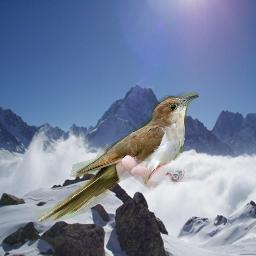Cuckoo: (35, 92, 199, 222)
